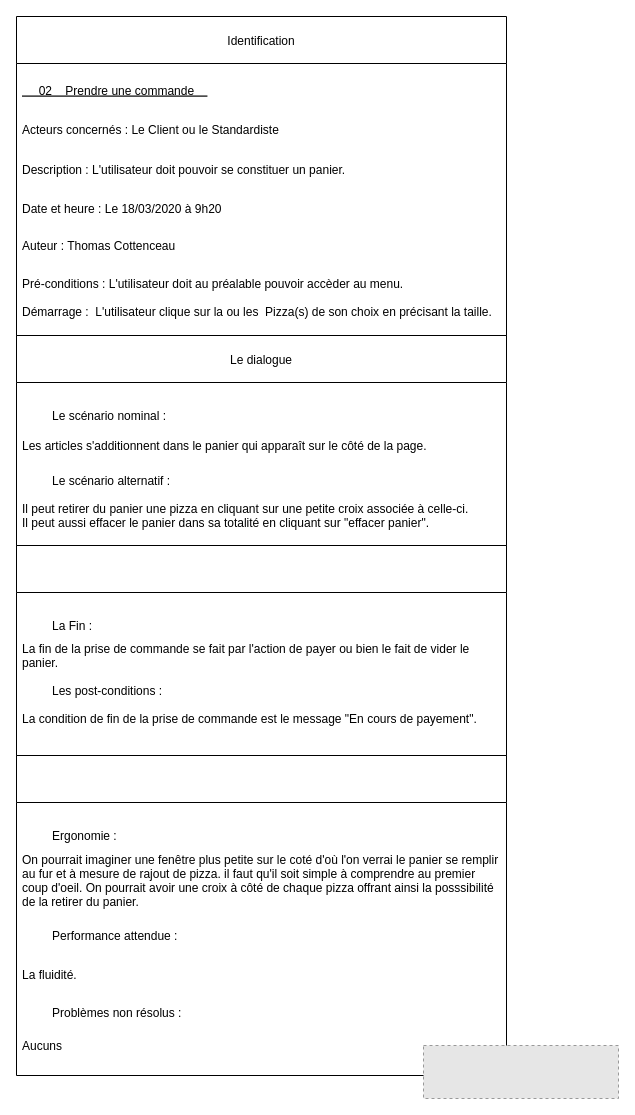
Image size: 635x1115. Some labels were removed from this diagram. Grey dashed boxes stand in for pictures. Here are the shapes that lost their labels. From the top down, the box of each, then its label:
(16, 544, 506, 756): La fin et les post-conditions
(16, 754, 506, 1076): Les compléments
